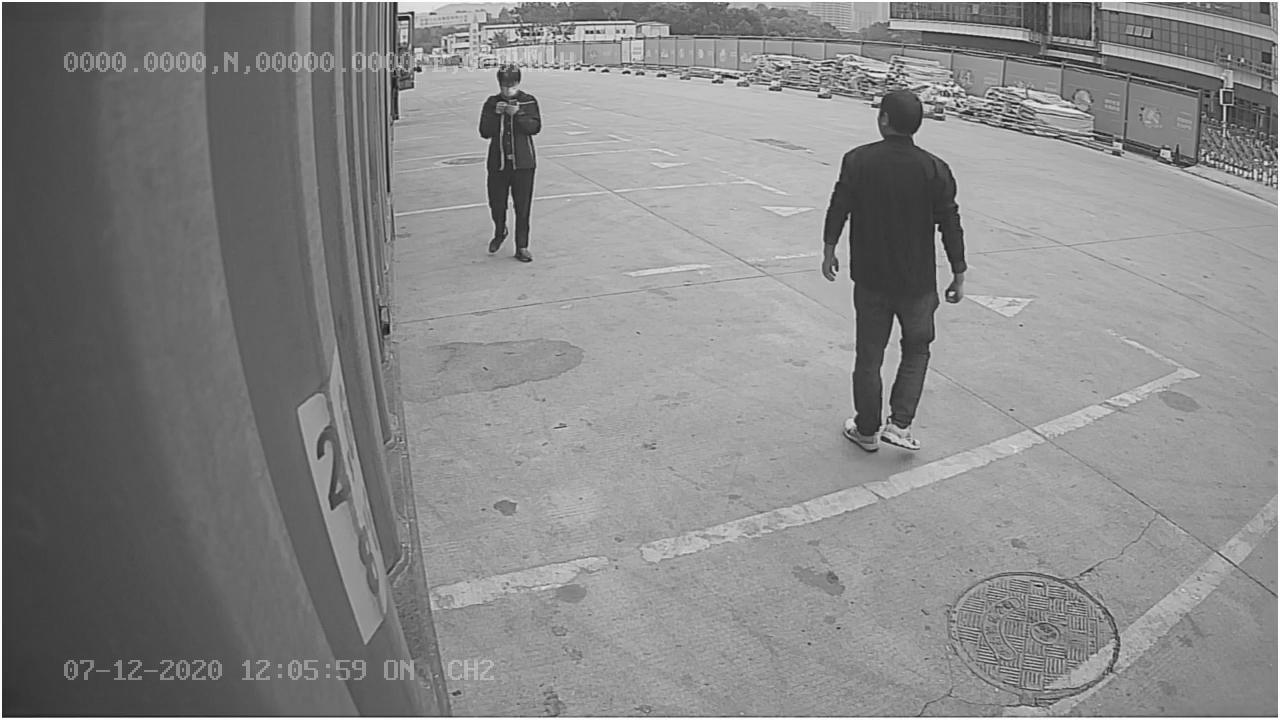person: (821, 79, 969, 463)
